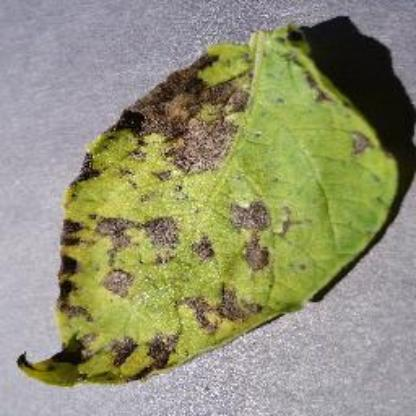Early-Blight: (23, 25, 397, 392)
